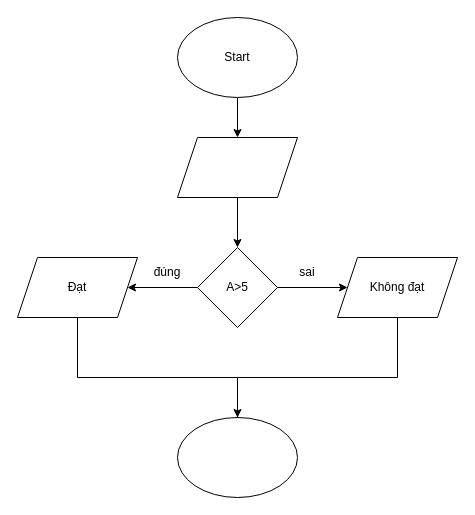
Image size: 475x515. Some labels were removed from this diagram. The shapes that lost their labels are listed below. From the top down, each one's box as (x1, y1, x2, y2) in pixels, then its label:
(176, 136, 298, 198): nhập vào A
(176, 416, 298, 498): End
